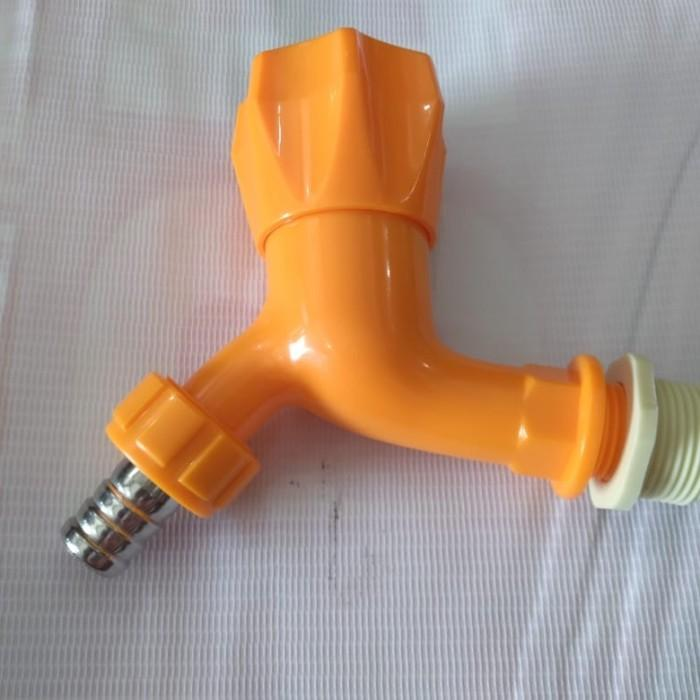PVC: (103, 29, 700, 520)
